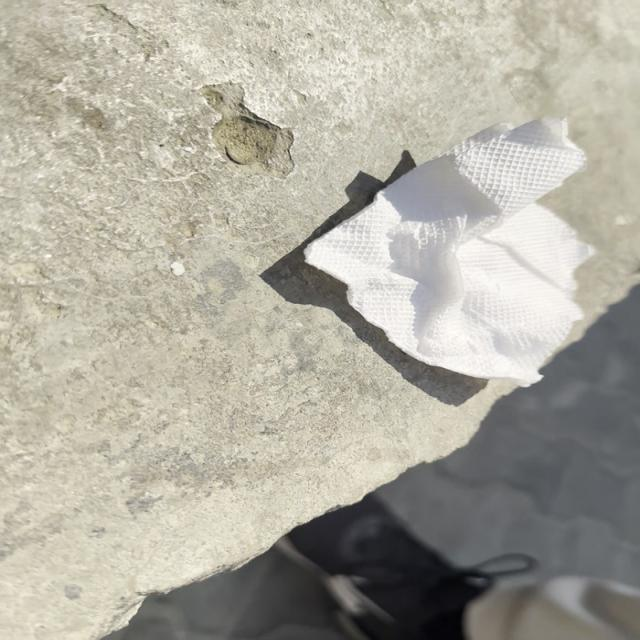tissue: (292, 111, 600, 382)
